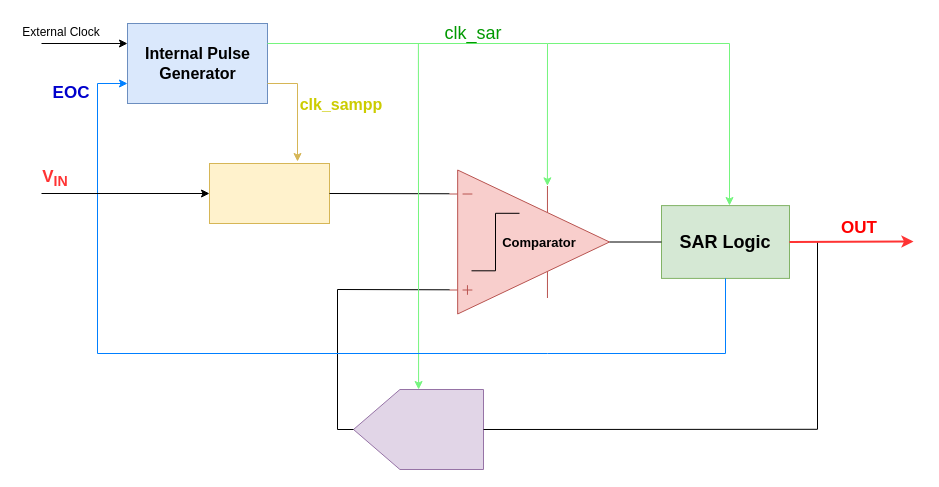
The diagram is 939 pixels wide and 487 high, and some of its shapes have lost their labels. Here are the shapes that lost their labels. From the top down, the centre of each, then its label:
the point at 269,193: Sample & Hold
the point at 418,429: 12 bit DAC
